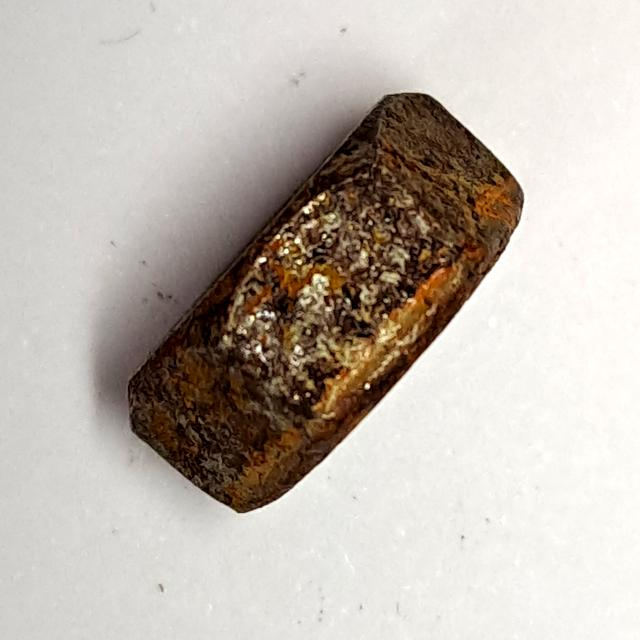Side_Rust: (113, 83, 538, 523)
